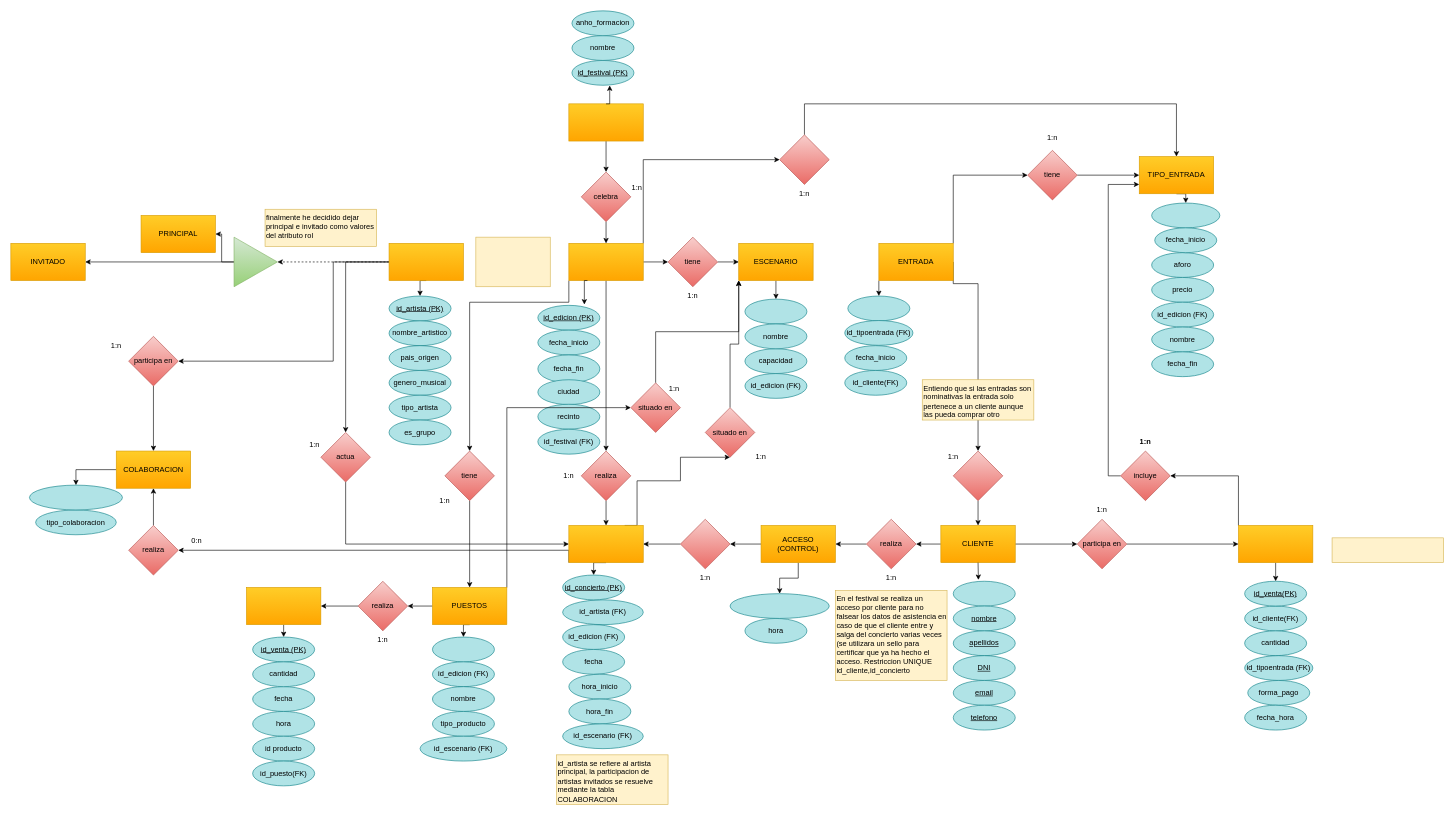
The diagram is 1455 pixels wide and 817 high, and some of its shapes have lost their labels. The shapes that lost their labels are listed below. From the top down, each one's box as (x1, y1, x2, y2) in pixels, then its label:
(568, 103, 643, 141): FESTIVAL
(779, 134, 829, 184): define
(1151, 202, 1220, 228): id_tipoentrada (PK)
(233, 237, 277, 287): puede ser
(388, 243, 463, 281): ARTISTA
(475, 237, 550, 287): Se ha eliminado esta relacion entre edicion y artista por ser redundante
(568, 243, 643, 281): EDICION
(744, 299, 807, 324): id_escenario (PK)
(847, 295, 910, 321): id_entrada (PK)
(953, 450, 1003, 501): pertenece
(29, 485, 122, 510): id_artista,id_concierto (PK)
(568, 525, 643, 563): CONCIERTO
(680, 519, 730, 569): permite entrar a
(1238, 525, 1313, 563): VENTA_ENTRADA
(1331, 537, 1444, 563): Podria tener PK compuesta pero el enunciado pide id_venta
(246, 587, 321, 625): VENTA_PUESTO
(729, 593, 829, 618): id_cliente, id_concierto(PK)
(953, 581, 1015, 606): id_cliente (PK)
(432, 636, 494, 662): id_puesto (PK)
